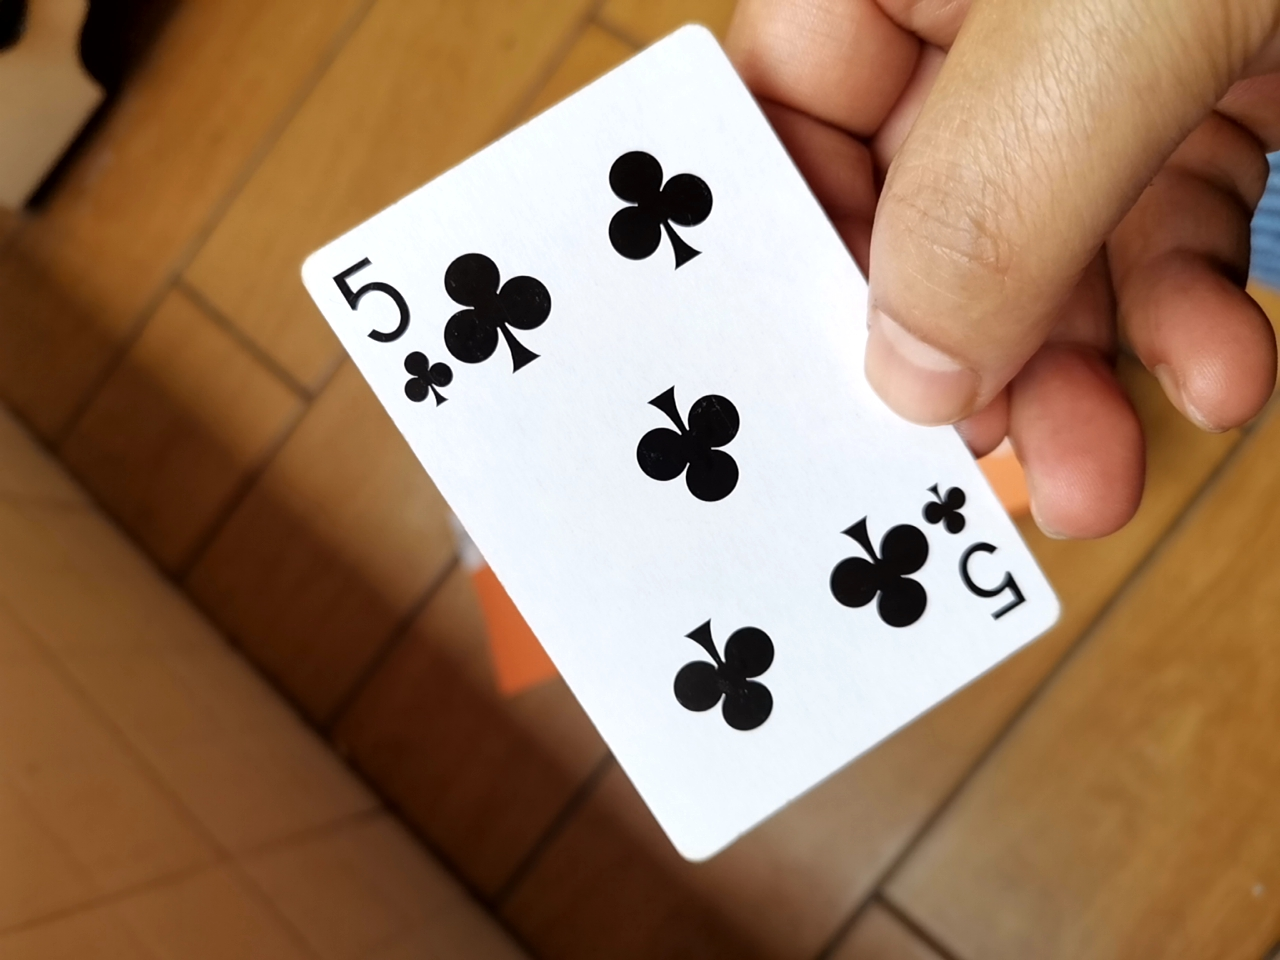mh 5: (276, 23, 1080, 869)
